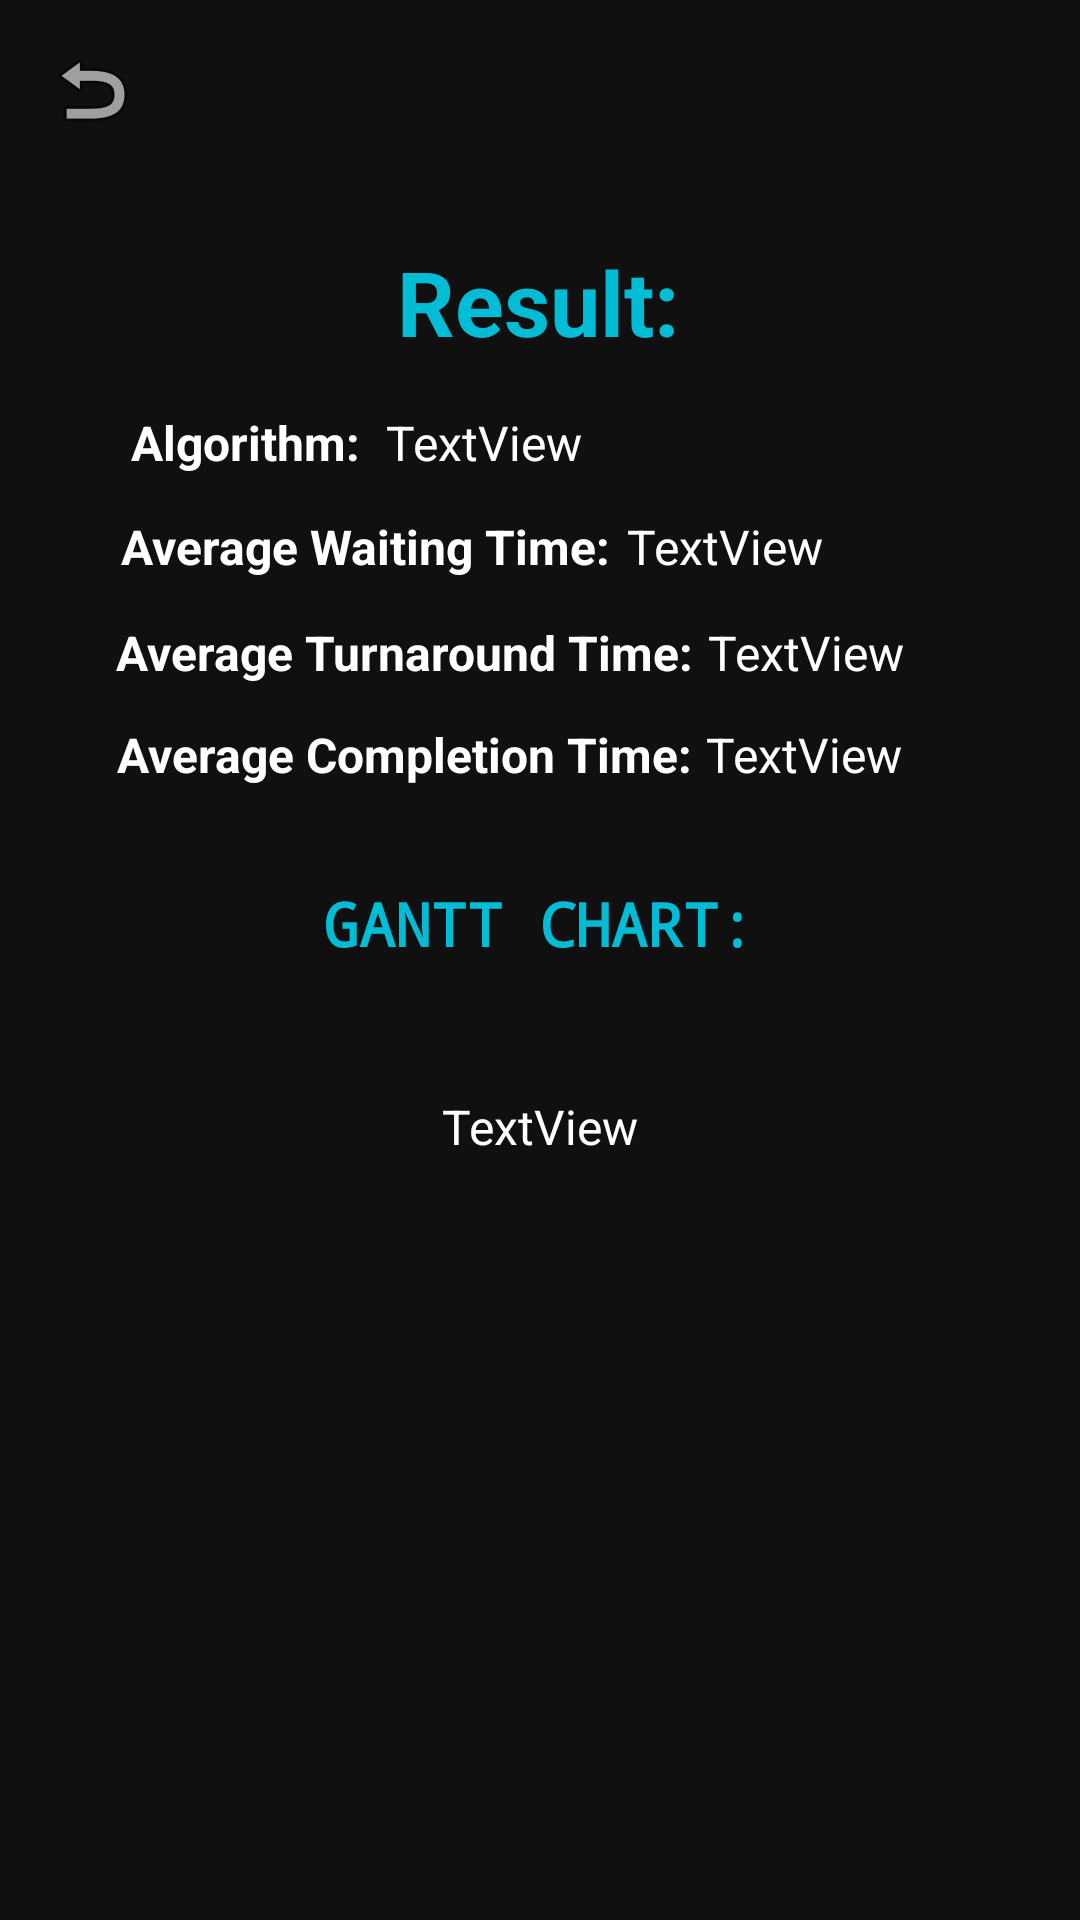

Named icons in this screenshot (1080*1920) and their bounding boxes, (x1,y1,x2,y2):
revert: (62,62,125,119)
